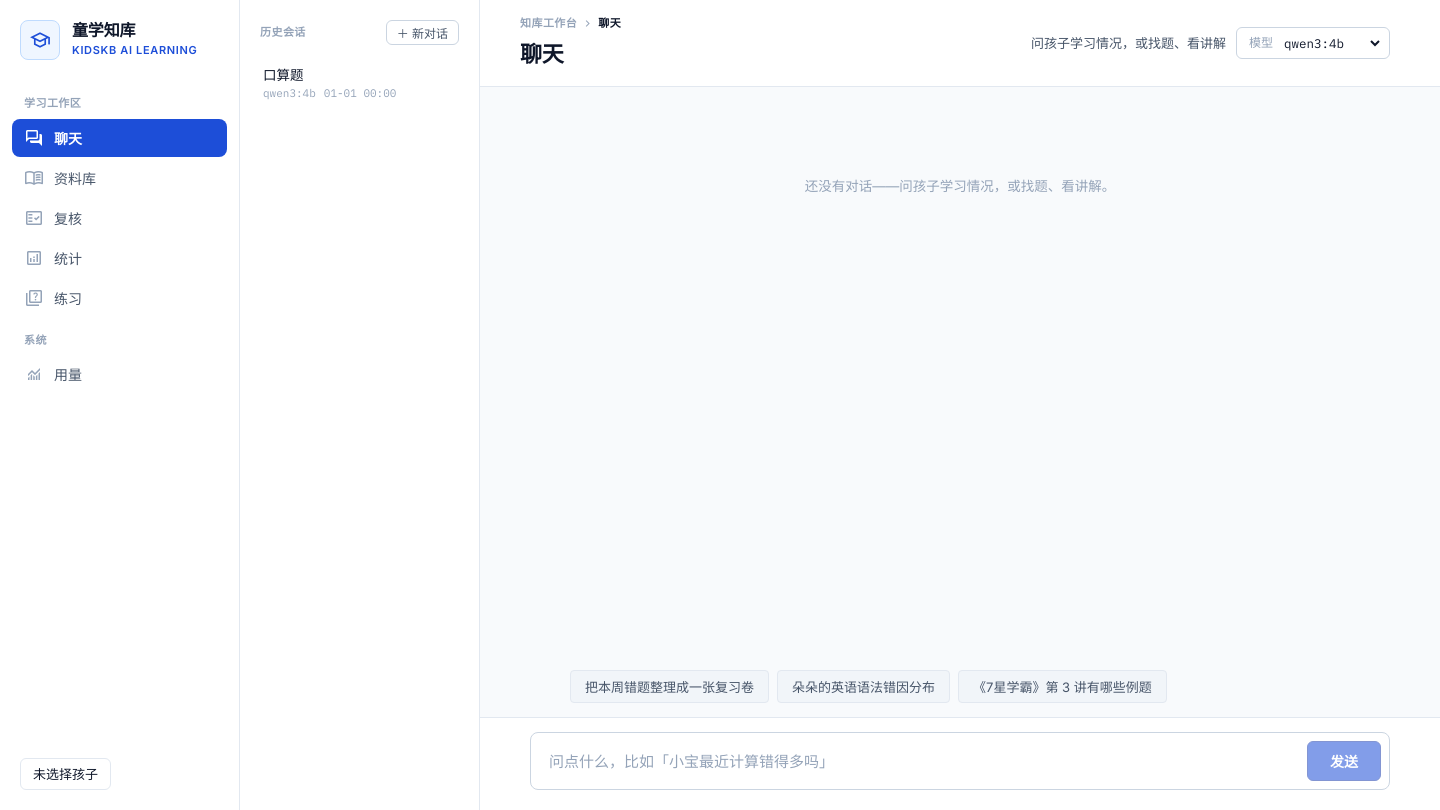
Scenario: App 集成（会话侧栏 + 模型下拉 + 聊天流） › 「新对话」清空消息流与当前会话标记
The width and height of the screenshot is (1440, 810).
Step 1. Click the text "口算题" → (283, 74), box x1=263 y1=64 x2=304 y2=84
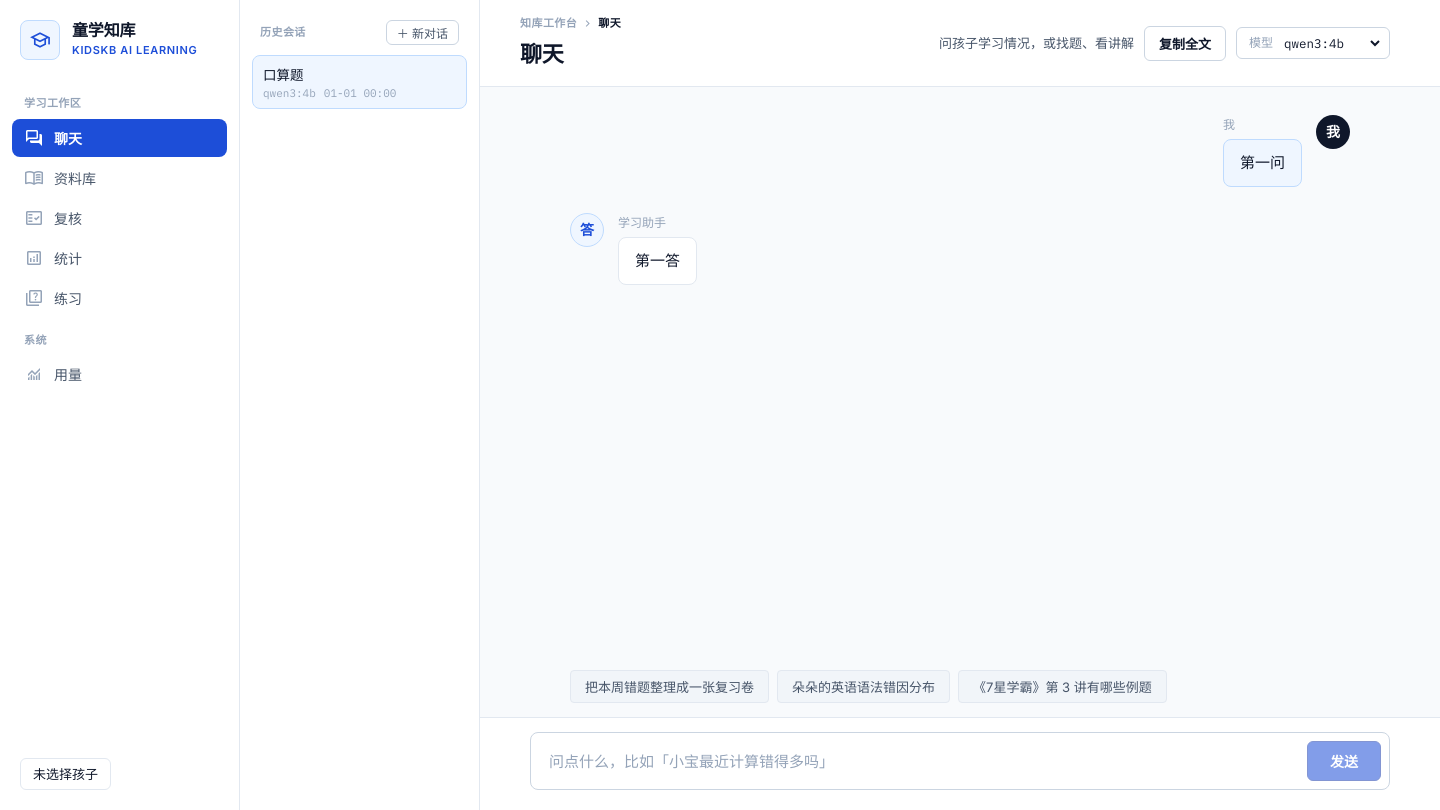
Check: the text "第一问" is shown, box x1=1223 y1=140 x2=1302 y2=187
Step 2. Click the button "＋ 新对话" → (422, 32), box x1=386 y1=20 x2=459 y2=45
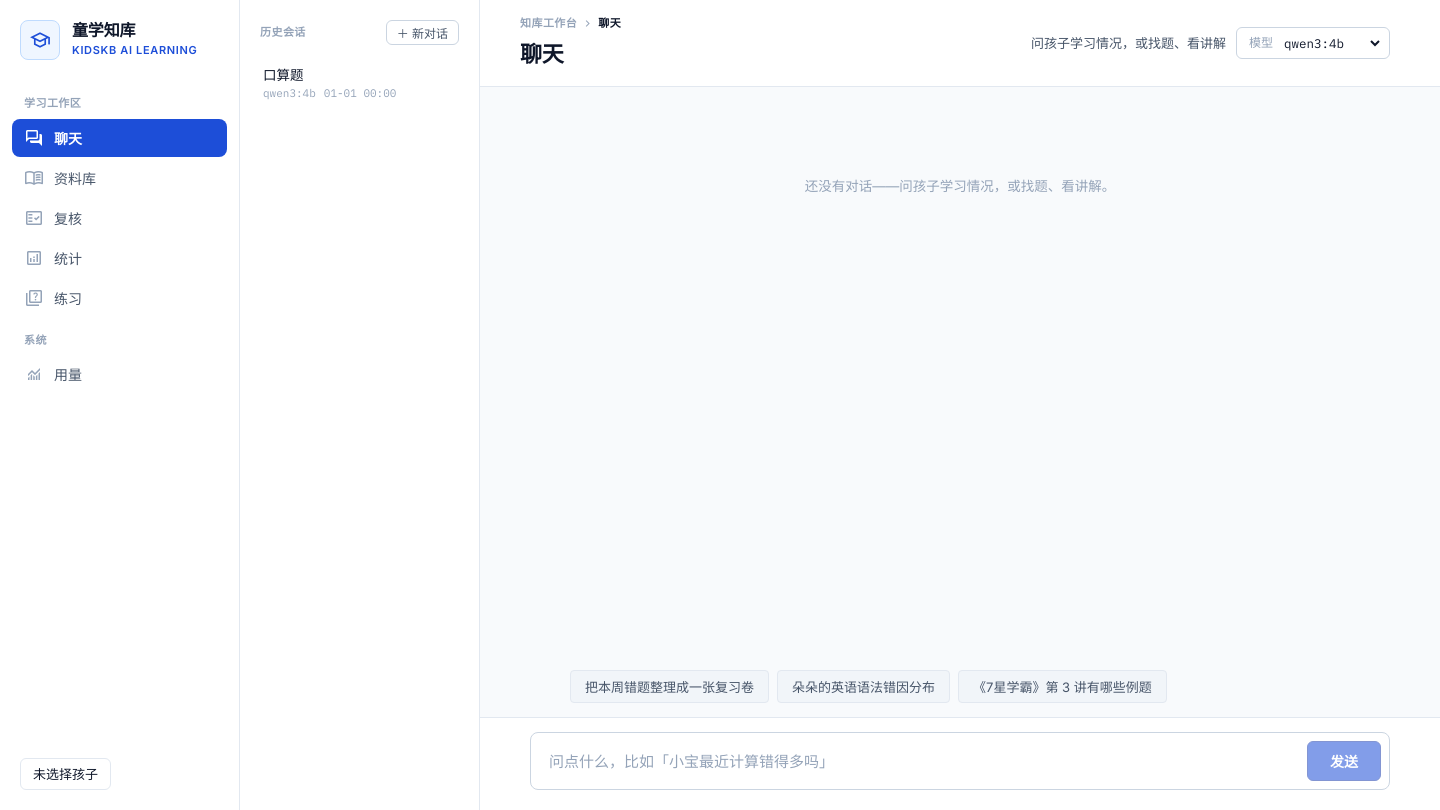
Check: the text "第一问" is gone
Check: the text "还没有对话——问孩子学习情况，或找题、看讲解。" is shown, box x1=805 y1=178 x2=1115 y2=194
